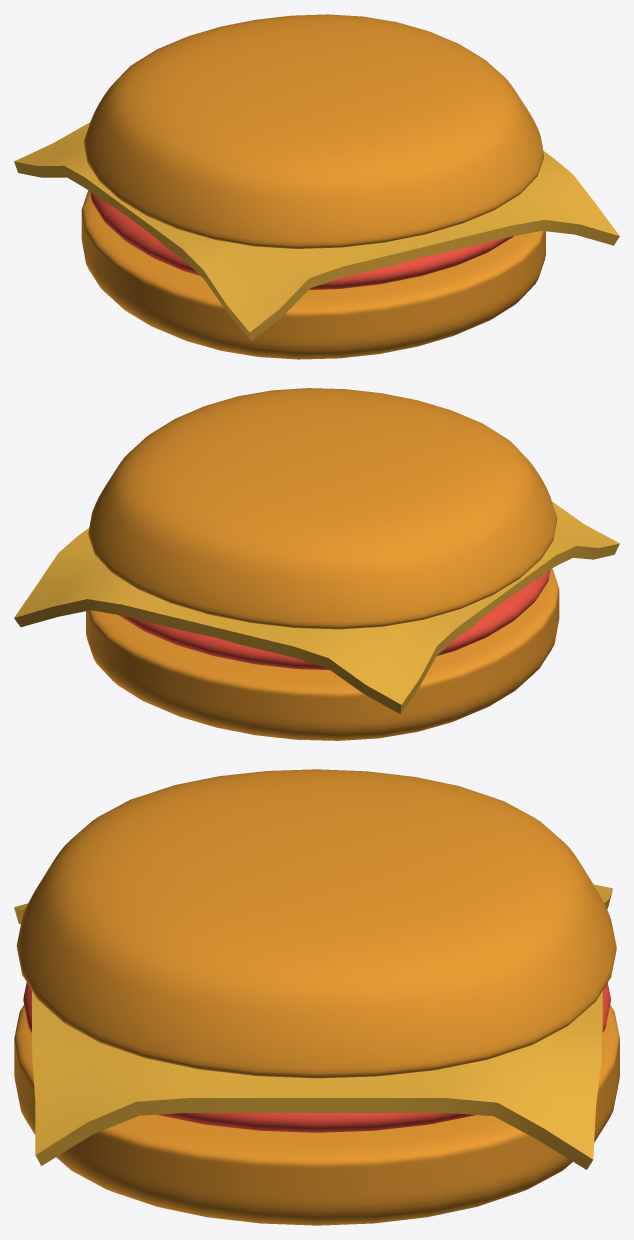
Rendered from hamburger.glb.
3 views of the same model, one above another, from view 1: azimuth 30°, elevation 25°; view 2: azimuth 150°, elevation 25°; view 3: azimuth 270°, elevation 25° (orthographic). The views are drawn at different scales.
Visible parts, largest first — view 1: 立方体.002, 立方体, 平面, 立方体.001; view 2: 立方体.002, 立方体, 平面, 立方体.001; view 3: 立方体.002, 立方体, 平面, 立方体.001.
Boxes of the visible parts, <box> form: 立方体.002: <box>84,14,543,248</box>; 立方体: <box>81,190,545,359</box>; 平面: <box>14,122,619,340</box>; 立方体.001: <box>90,192,513,289</box>; 立方体.002: <box>88,388,557,629</box>; 立方体: <box>86,569,559,740</box>; 平面: <box>14,501,619,714</box>; 立方体.001: <box>119,570,550,669</box>; 立方体.002: <box>16,769,616,1078</box>; 立方体: <box>14,1005,619,1225</box>; 平面: <box>14,884,612,1169</box>; 立方体.001: <box>23,982,610,1132</box>.
Bounding box in the file's own units: 9.26 × 4.8 × 9.19.
